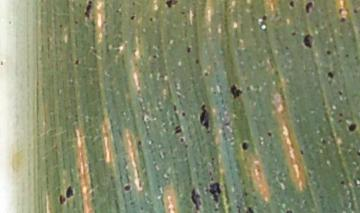tarspot: (189, 187, 203, 213), (207, 181, 222, 203), (198, 103, 210, 130), (229, 83, 243, 100), (302, 32, 314, 49), (83, 1, 93, 19), (65, 184, 74, 200), (304, 1, 314, 14), (113, 8, 124, 19), (337, 6, 350, 15), (164, 1, 178, 9), (347, 122, 357, 133), (122, 183, 133, 193), (58, 193, 67, 205), (173, 124, 182, 134), (241, 140, 249, 151), (244, 206, 256, 213), (73, 57, 81, 66), (151, 53, 160, 61), (135, 139, 144, 147), (319, 137, 328, 145), (242, 190, 250, 199), (178, 9, 187, 17), (173, 112, 180, 122), (326, 71, 334, 79), (351, 7, 359, 15), (138, 205, 146, 213), (6, 19, 14, 27), (261, 14, 268, 23), (273, 68, 280, 77), (283, 44, 292, 51), (171, 103, 178, 112), (288, 1, 296, 8), (185, 46, 192, 54), (266, 130, 273, 138), (180, 110, 187, 118), (325, 49, 333, 56), (338, 16, 346, 23), (336, 89, 344, 96), (289, 30, 297, 37), (202, 70, 210, 77), (178, 136, 185, 144), (298, 148, 305, 156), (244, 85, 252, 92), (194, 57, 200, 66), (129, 14, 136, 21), (57, 22, 64, 29), (337, 111, 344, 118), (212, 206, 219, 213), (343, 52, 350, 59), (354, 149, 360, 157), (339, 178, 345, 186), (72, 19, 79, 25), (183, 143, 189, 150), (209, 156, 216, 162), (336, 118, 343, 124), (209, 175, 215, 182), (284, 209, 294, 213), (352, 54, 358, 60), (207, 170, 213, 176), (133, 62, 139, 68), (131, 1, 137, 7), (148, 16, 153, 23), (1, 59, 5, 67), (39, 1, 45, 5)
